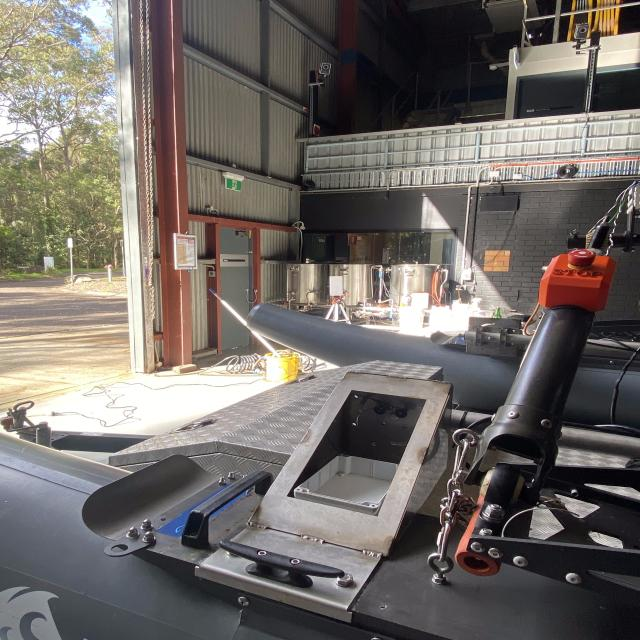matrix: (328, 275, 344, 296)
